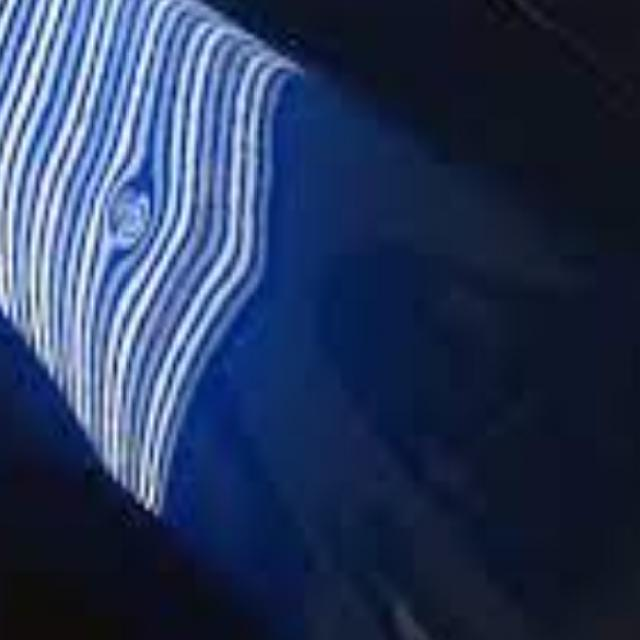dents: (77, 143, 198, 264)
